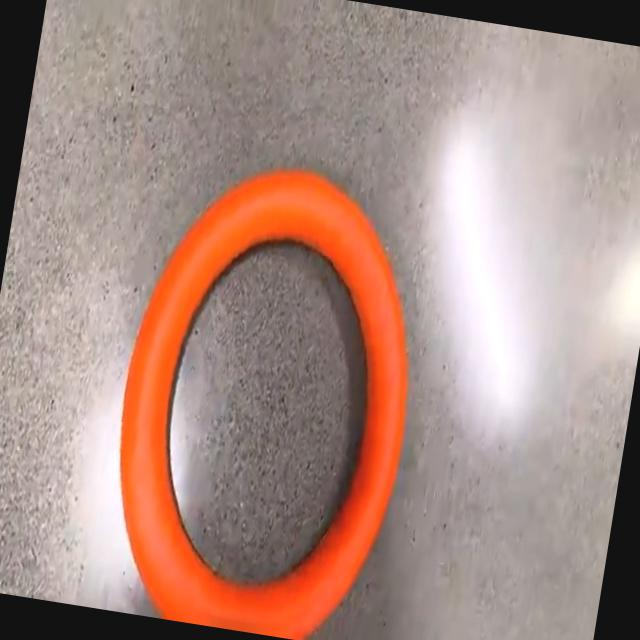note: (120, 170, 408, 638)
